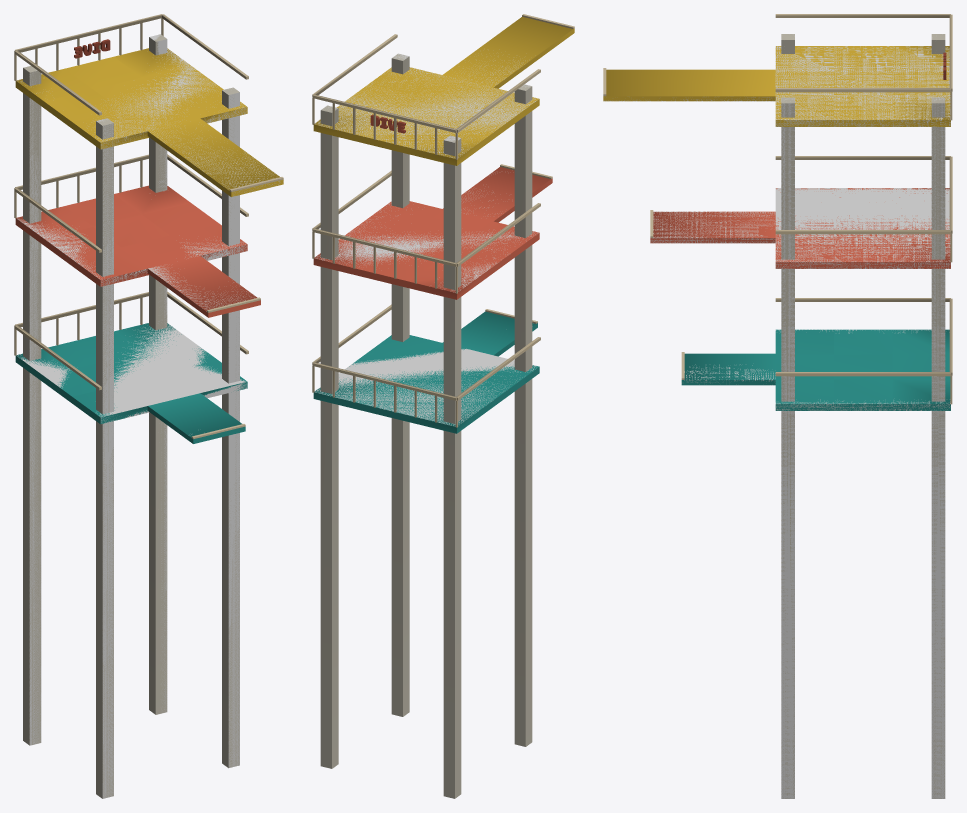
The model's file is dive_tower.glb.
3 renders of one model, left to right at view 1: azimuth 30°, elevation 25°; view 2: azimuth 150°, elevation 25°; view 3: azimuth 270°, elevation 25°, orthographic. The views are drawn at different scales.
Parts seen in each view (by area): view 1: dive_tower, COL_3, COL_4, COL_2, COL_0, COL_8, COL_6, COL_1, COL_9, COL_7; view 2: dive_tower, COL_4, COL_8, COL_6; view 3: dive_tower, COL_6, COL_8, COL_1, COL_2, COL_7, COL_4.
Boxes of the visible parts, x1,y1,x2,y2 form: dive_tower: (14, 14, 283, 798); COL_3: (96, 118, 113, 798); COL_4: (16, 323, 246, 423); COL_2: (222, 87, 239, 767); COL_0: (29, 69, 41, 745); COL_8: (18, 49, 246, 149); COL_6: (17, 218, 246, 286); COL_1: (149, 34, 167, 712); COL_9: (150, 125, 283, 196); COL_7: (148, 266, 254, 311); dive_tower: (312, 14, 574, 798); COL_4: (315, 348, 536, 426); COL_8: (315, 67, 538, 157); COL_6: (315, 201, 538, 292); dive_tower: (603, 14, 952, 798); COL_6: (775, 188, 950, 268); COL_8: (775, 46, 950, 126); COL_1: (931, 98, 945, 798); COL_2: (781, 97, 794, 798); COL_7: (650, 211, 775, 243); COL_4: (775, 329, 950, 410).
Bounding box in the file's own units: 5.7 × 25.1 × 11.15.
